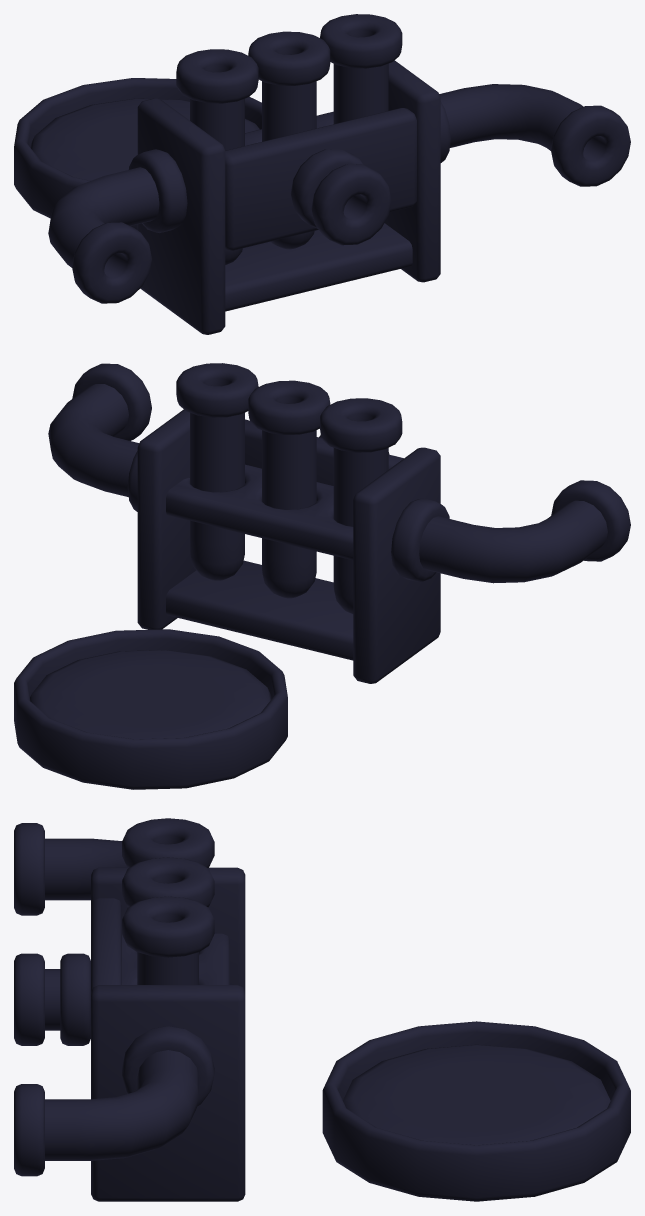
Rendered from Constructing_Farm.fbx.
3 views of the same model, one above another, from view 1: azimuth 30°, elevation 25°; view 2: azimuth 150°, elevation 25°; view 3: azimuth 270°, elevation 25° (orthographic). The views are drawn at different scales.
Visible parts, largest first — view 1: Petri_Dish001; view 2: Petri_Dish001; view 3: Petri_Dish001.
Boxes of the visible parts, box(x1,y1,x2,y2) form: Petri_Dish001: box(14, 14, 630, 334); Petri_Dish001: box(14, 363, 630, 789); Petri_Dish001: box(14, 818, 630, 1201).
Size of the model in its own units: 230 by 95 by 200.
